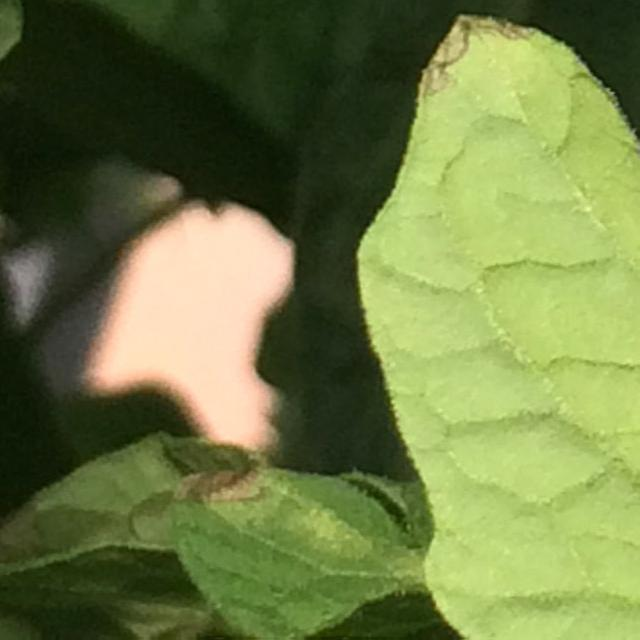Tomato mold leaf: (168, 0, 640, 640)
